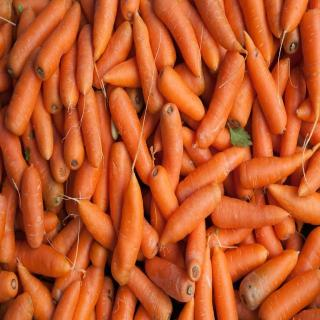carrot: (191, 47, 245, 153), (157, 181, 221, 257), (243, 30, 287, 138), (110, 165, 144, 286), (34, 0, 82, 84), (238, 248, 301, 310), (259, 265, 320, 320), (20, 159, 46, 254)
